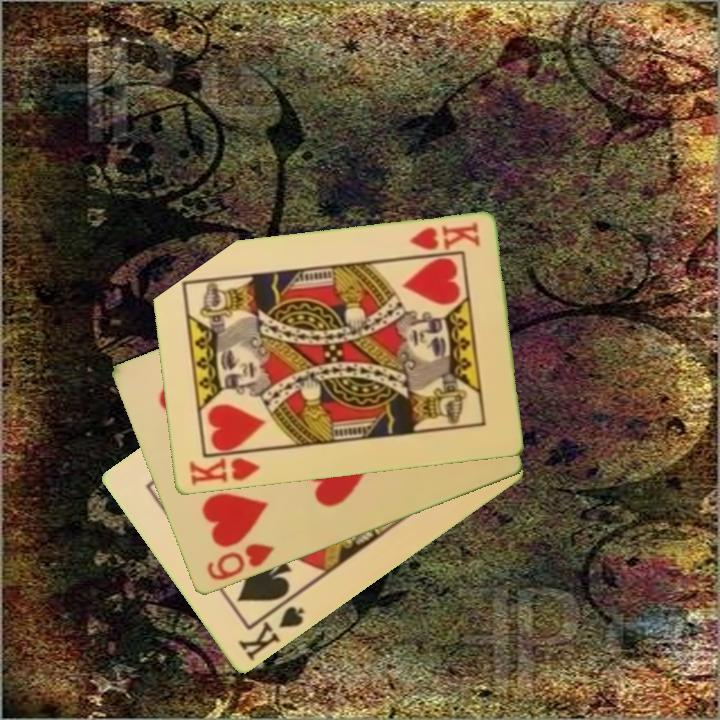6h: (202, 540, 277, 584)
Kh: (185, 448, 265, 489), (406, 219, 482, 254)
Ks: (235, 594, 308, 666)
